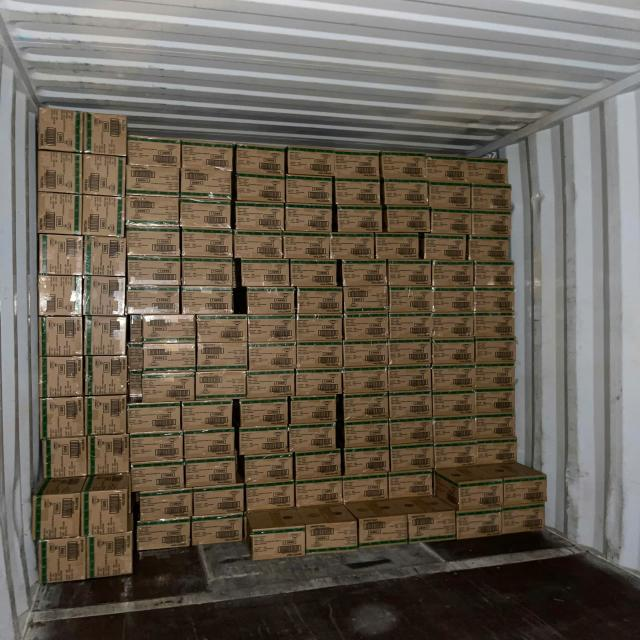Carton: (126, 140, 181, 194), (37, 536, 88, 585), (39, 108, 86, 155), (131, 370, 195, 402), (86, 491, 132, 535), (92, 532, 132, 581), (39, 152, 83, 196), (40, 275, 86, 317), (41, 496, 84, 540), (38, 193, 82, 236), (40, 234, 85, 276), (82, 156, 126, 198), (125, 195, 180, 228), (248, 529, 306, 560), (83, 196, 124, 239), (88, 114, 128, 158), (125, 166, 180, 198), (136, 522, 193, 552), (137, 494, 194, 524), (181, 200, 234, 232), (86, 237, 127, 278), (86, 276, 126, 318), (185, 461, 241, 491), (128, 436, 184, 466), (182, 402, 236, 433), (87, 355, 127, 396), (126, 261, 182, 290), (191, 518, 245, 548), (50, 439, 90, 479), (90, 436, 130, 476), (86, 317, 127, 356), (48, 398, 86, 440), (126, 407, 181, 436), (192, 488, 245, 518), (305, 522, 358, 552), (181, 262, 237, 290), (129, 466, 185, 494), (145, 342, 199, 371), (45, 319, 85, 358), (196, 370, 248, 400), (47, 358, 85, 399), (502, 474, 549, 507), (143, 314, 198, 342), (126, 231, 181, 259), (126, 288, 181, 316), (233, 204, 284, 234), (501, 502, 546, 536), (88, 398, 127, 437), (181, 145, 235, 173), (240, 429, 292, 458), (184, 432, 236, 461), (182, 232, 235, 260), (180, 169, 233, 197), (408, 512, 457, 542), (181, 288, 235, 315), (240, 263, 292, 291), (196, 318, 248, 346), (235, 150, 285, 179), (243, 456, 293, 485), (284, 206, 332, 236), (233, 233, 284, 261), (237, 401, 288, 429), (289, 398, 340, 426), (246, 289, 297, 317), (249, 320, 299, 348), (342, 449, 390, 478), (290, 264, 339, 292), (455, 512, 502, 541), (197, 343, 249, 369), (236, 180, 288, 206), (359, 518, 409, 545), (457, 483, 502, 513), (296, 343, 344, 371), (334, 180, 382, 208), (296, 315, 344, 343), (282, 235, 330, 263), (285, 180, 333, 208), (286, 150, 334, 178), (248, 372, 296, 400), (295, 454, 343, 482), (250, 345, 298, 373), (289, 428, 338, 455), (334, 154, 381, 182), (343, 314, 390, 342), (342, 396, 389, 424), (342, 424, 389, 452), (434, 440, 479, 469), (246, 486, 296, 512), (295, 371, 343, 398), (334, 208, 382, 235), (380, 155, 427, 182), (296, 291, 344, 317), (293, 482, 341, 508), (375, 235, 421, 262), (424, 236, 470, 263), (426, 156, 470, 184), (384, 182, 431, 208), (342, 287, 389, 313), (331, 235, 376, 262), (430, 183, 473, 211), (468, 160, 511, 188), (342, 344, 388, 370), (383, 207, 429, 233), (342, 370, 388, 396), (342, 479, 388, 505), (391, 448, 435, 475), (341, 264, 388, 289), (386, 264, 431, 290), (388, 395, 431, 422), (431, 264, 474, 291), (388, 314, 432, 340), (390, 289, 434, 315), (431, 366, 475, 392), (469, 238, 512, 264), (387, 368, 430, 394), (431, 395, 474, 421), (389, 343, 433, 368), (433, 315, 477, 340), (433, 342, 477, 367), (433, 418, 477, 443), (431, 210, 473, 236), (475, 415, 517, 441), (476, 439, 518, 465), (472, 187, 512, 214), (390, 476, 435, 500), (430, 290, 473, 315), (476, 340, 517, 366), (471, 212, 512, 238), (475, 264, 514, 291), (475, 390, 515, 416), (475, 366, 515, 392), (391, 422, 434, 446), (475, 315, 516, 340), (475, 290, 514, 316)
